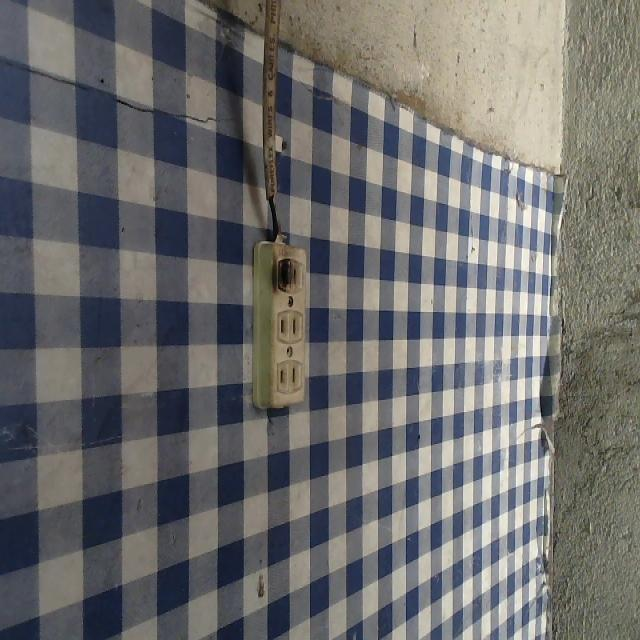-: (270, 252, 300, 299)
